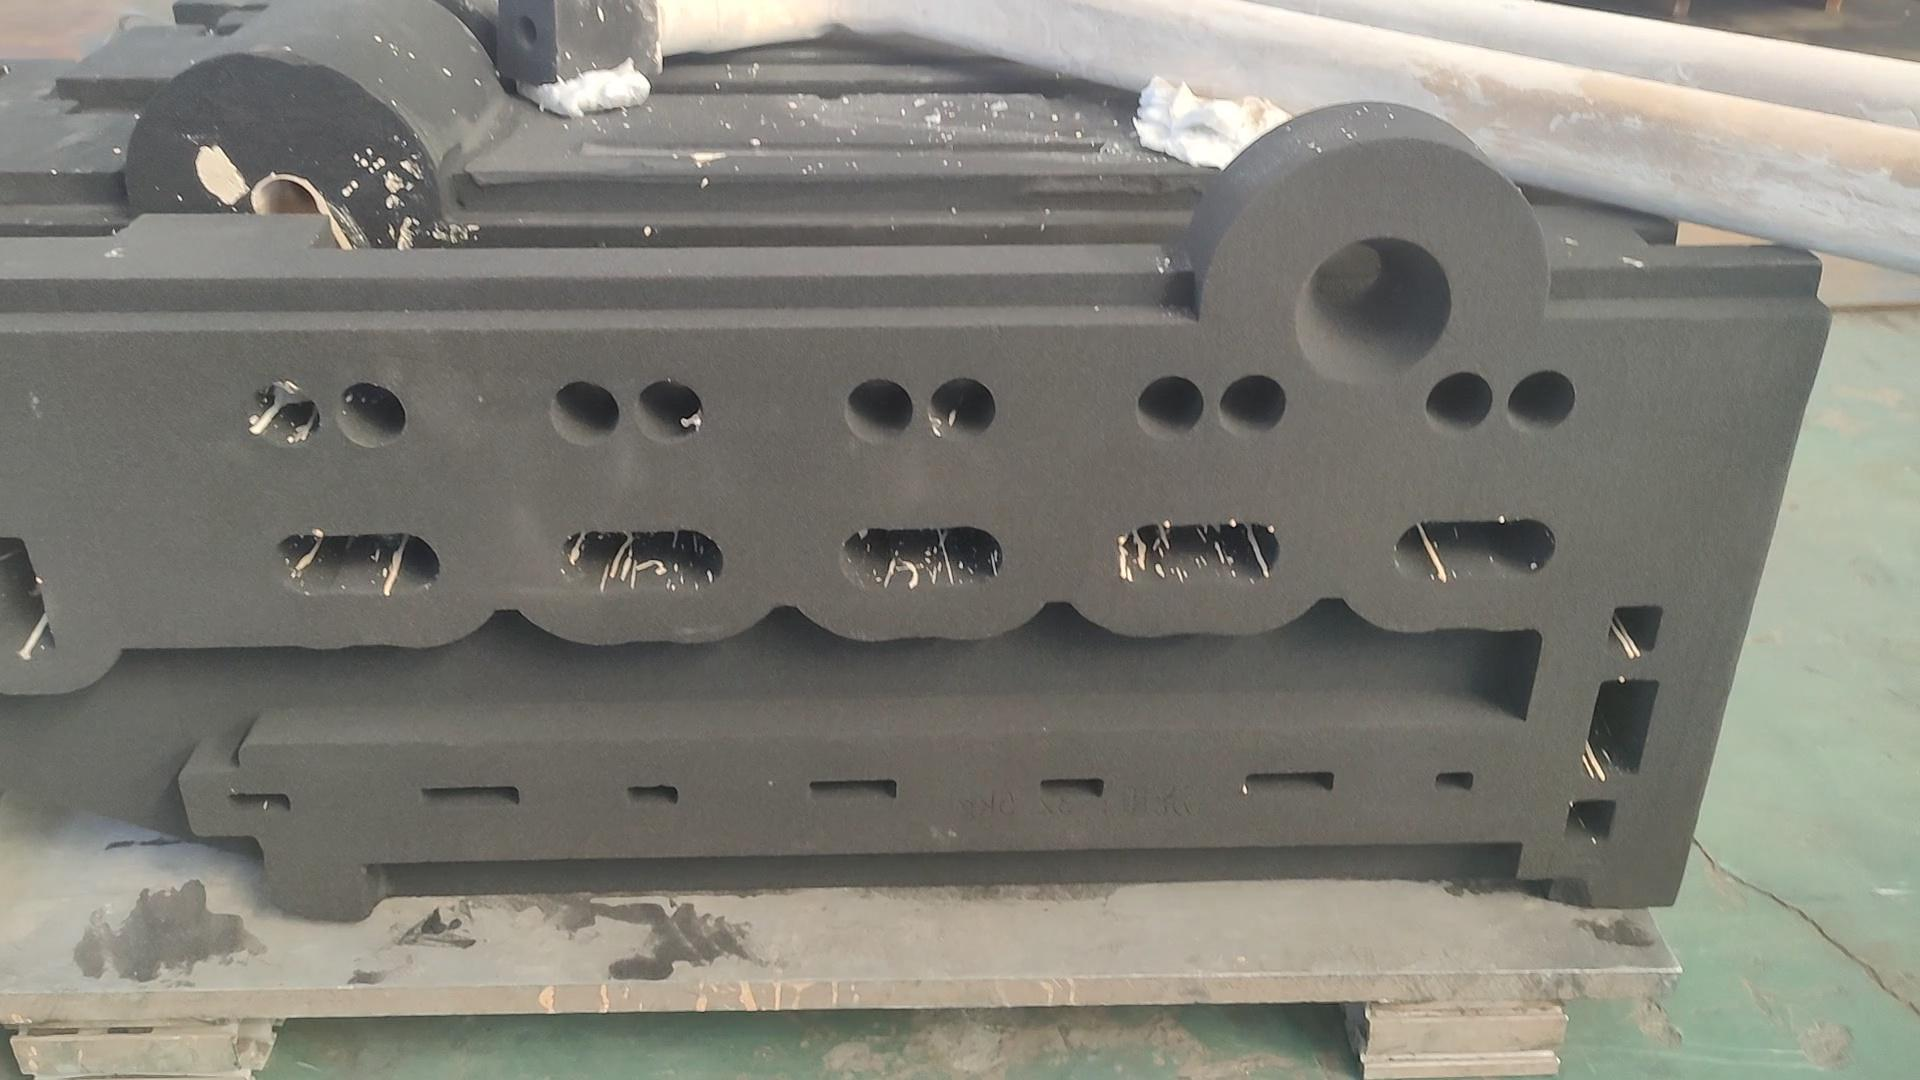pouring hole: (1294, 237, 1452, 380)
